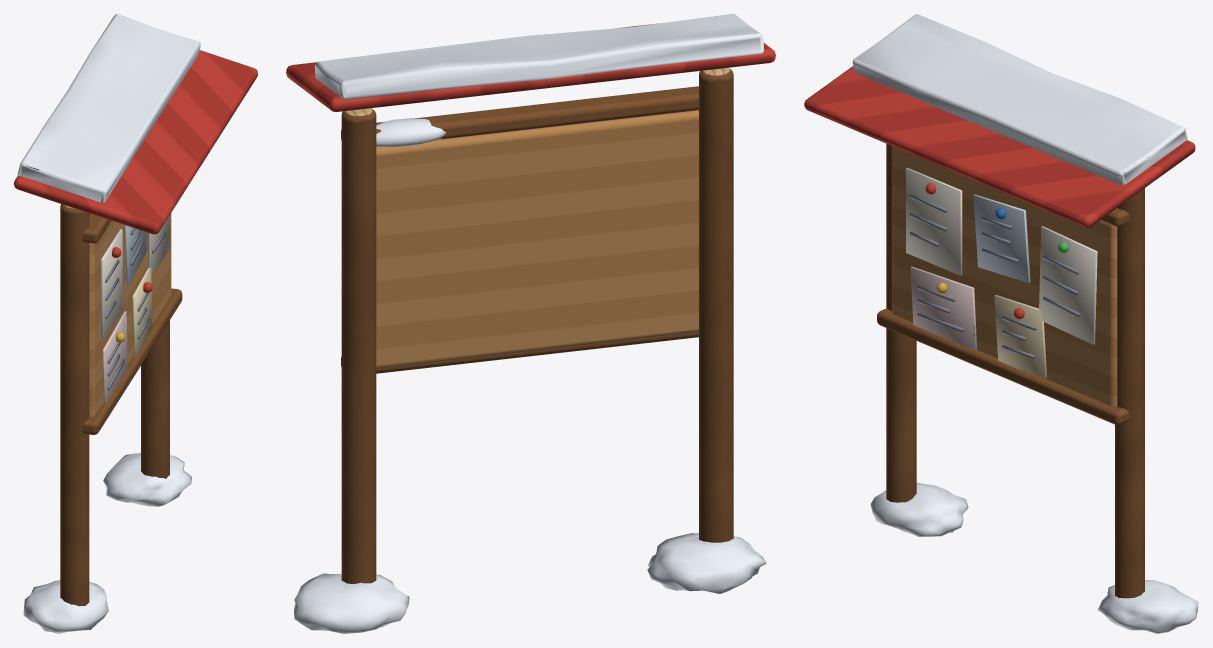
File: notice_board.glb
3 renders of one model, left to right at view 1: azimuth 30°, elevation 25°; view 2: azimuth 150°, elevation 25°; view 3: azimuth 270°, elevation 25°, orthographic. The views are drawn at different scales.
Parts seen in each view (by area): view 1: board; view 2: board; view 3: board.
Part boxes in pixels (left/top/right/bottom): board: left=14, top=14, right=257, bottom=633; board: left=286, top=14, right=775, bottom=633; board: left=804, top=14, right=1198, bottom=633.
Size of the model in its own units: 1.5 by 2.09 by 1.51.
1 material, 1 textured.
